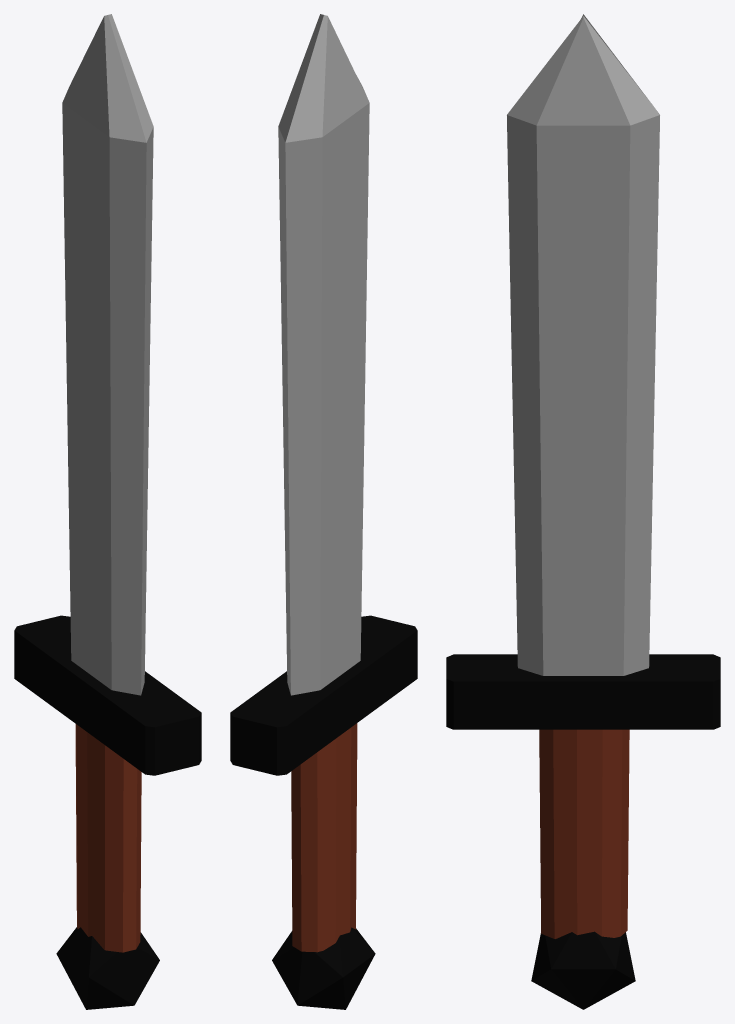
Rendered from sword.fbx.
The picture shows the model from 3 angles, left to right: view 1: azimuth 30°, elevation 25°; view 2: azimuth 150°, elevation 25°; view 3: azimuth 270°, elevation 25°; orthographic projection.
Visible parts, largest first — view 1: Melee, Handle, HandleEnd; view 2: Melee, Handle, HandleEnd; view 3: Melee, Handle, HandleEnd.
Part boxes in pixels (box(x1,y1,x2,y2)): Melee: box(14, 14, 201, 775); Handle: box(75, 724, 141, 952); HandleEnd: box(56, 927, 159, 1009); Melee: box(230, 14, 417, 775); Handle: box(291, 723, 357, 952); HandleEnd: box(272, 927, 375, 1009); Melee: box(446, 14, 720, 729); Handle: box(539, 729, 629, 938); HandleEnd: box(531, 931, 635, 1009).
Size of the model in its own units: 0.2946 by 3.91 by 0.9879.
